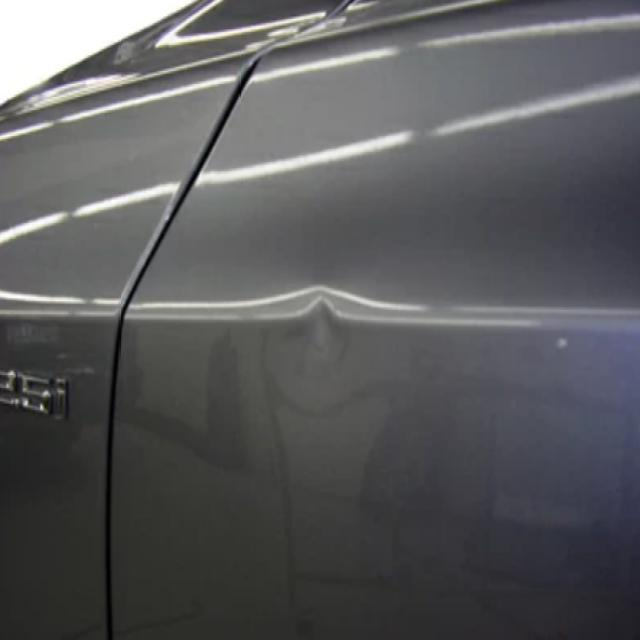dents: (246, 272, 386, 406)
